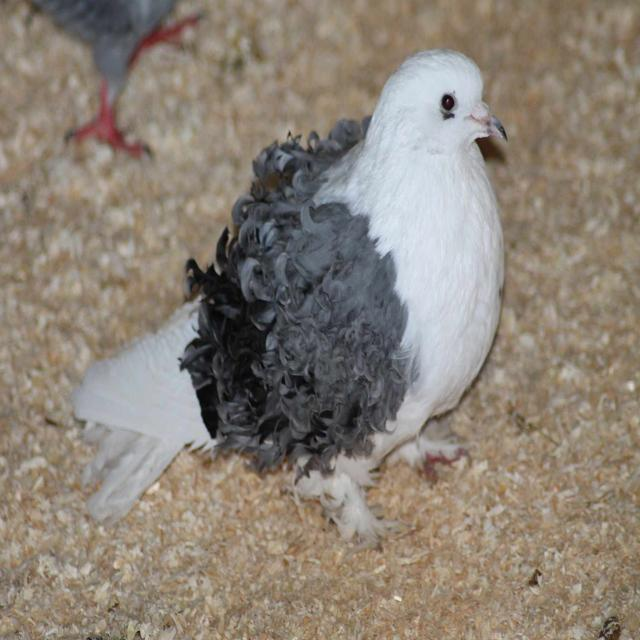Pigeon: (71, 17, 515, 541)
